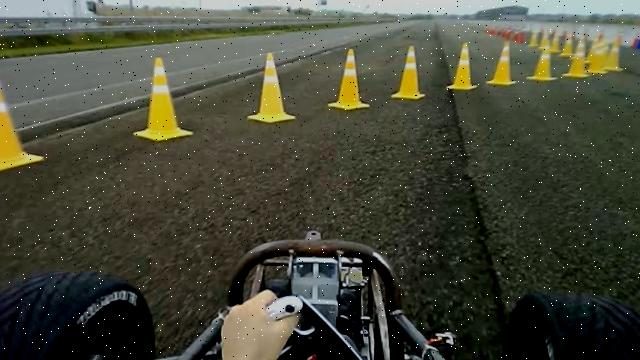yellow cone: (132, 56, 194, 142), (0, 79, 45, 171), (247, 51, 296, 123), (328, 48, 370, 110), (391, 45, 426, 99), (0, 86, 22, 159), (446, 41, 478, 90), (486, 40, 517, 86)
